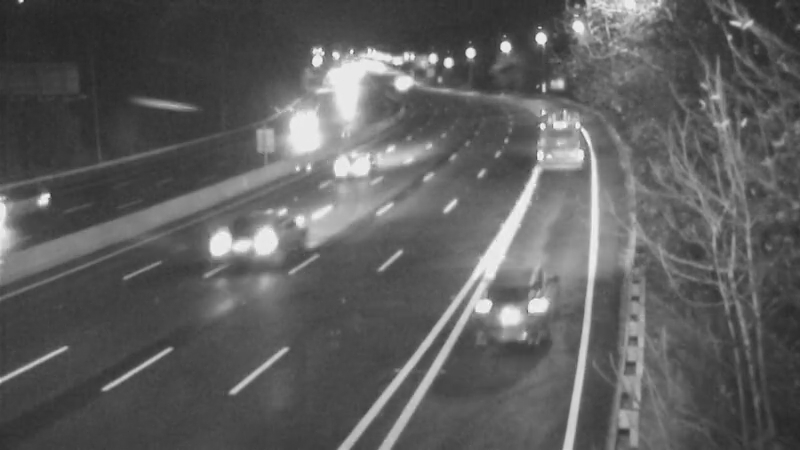vehicle: (455, 264, 565, 374), (317, 122, 397, 202), (212, 197, 292, 277), (1, 164, 66, 244), (523, 112, 573, 162), (280, 105, 330, 155)
